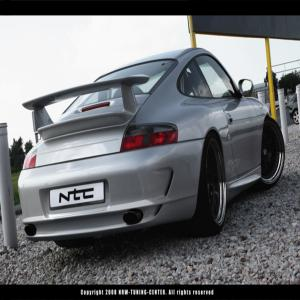Vehicle-registration-plate: (39, 178, 109, 223)
